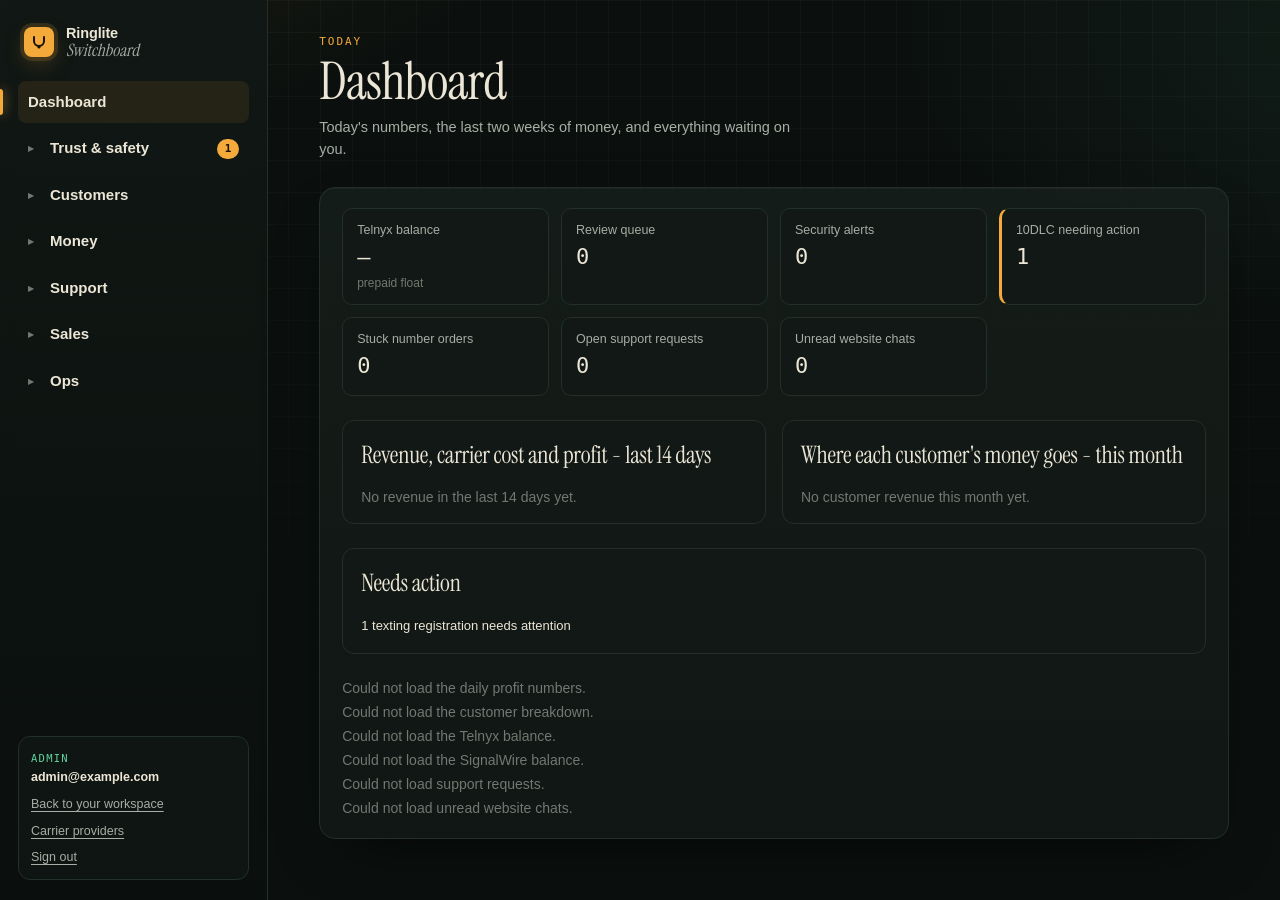
Test: OpsPage - texting registrations › lists each registration's stage, org, brand, campaign and detail
Step 1. Click the button "▸ Trust & safety 1" → (134, 149), box [18,127,249,170]
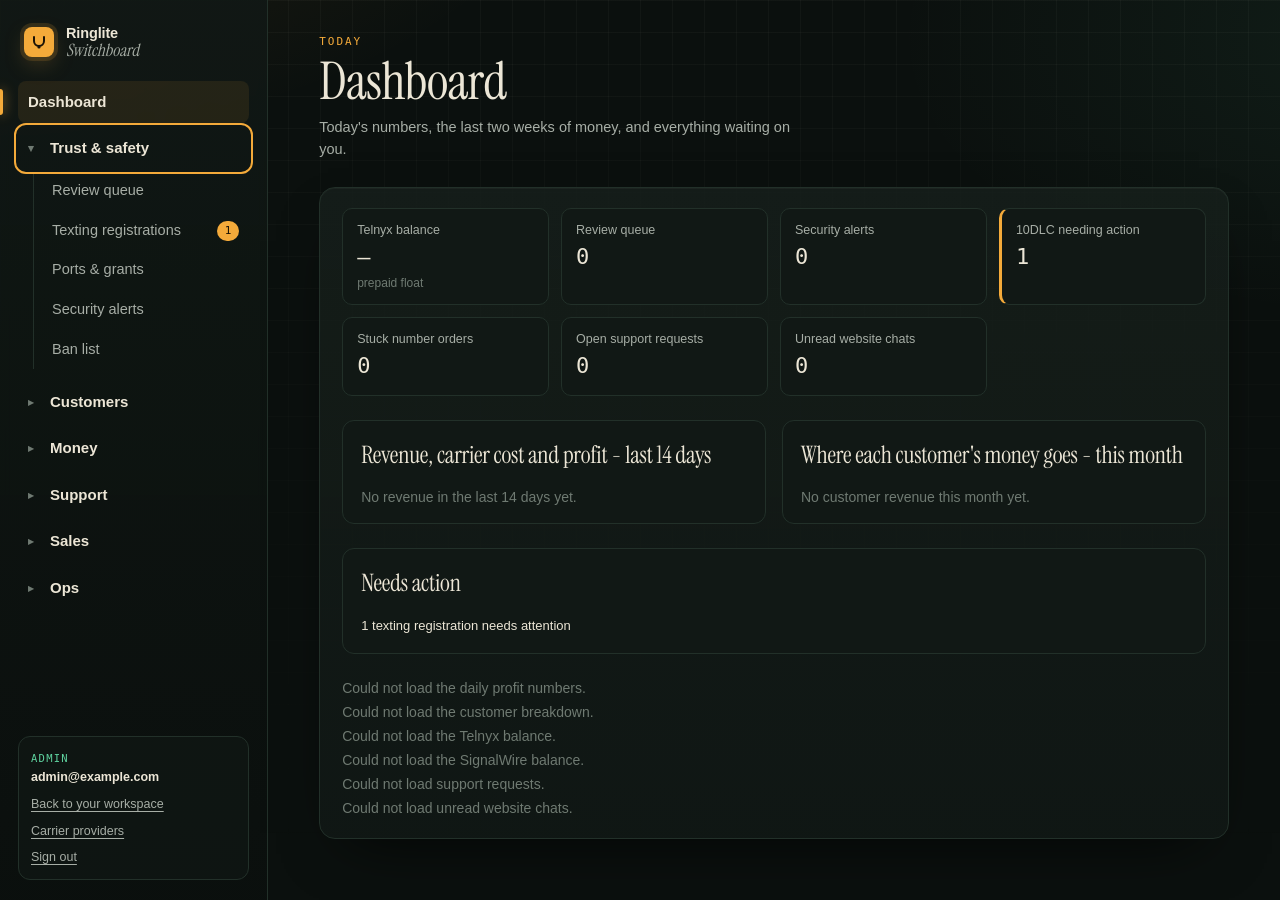
Step 2. Click the link "Texting registrations 1" → (146, 231), box [52,221,239,241]
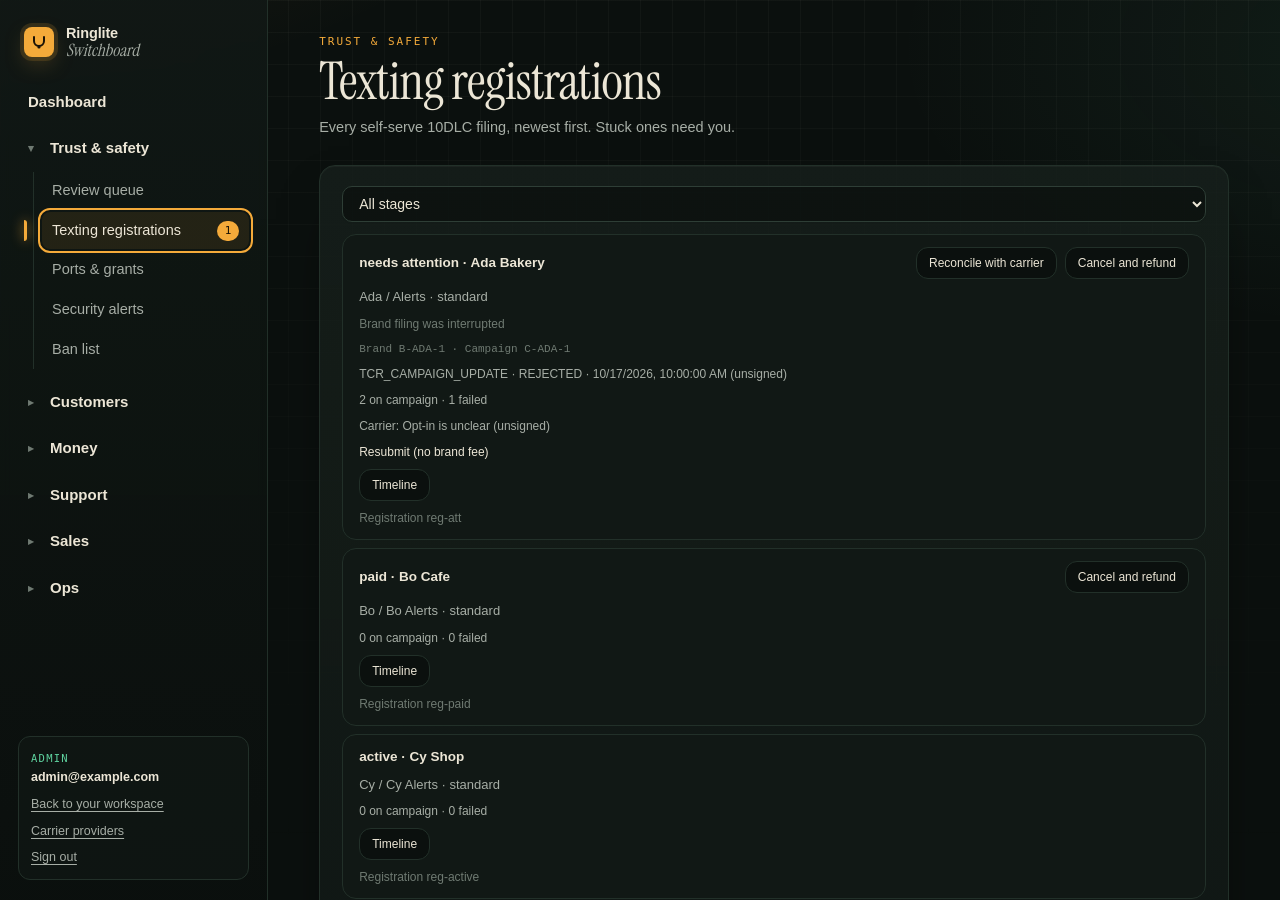
Now the list item with aria-label "Texting registration for Ada Bakery" shows "needs attention · Ada Bakery", box [342,234,1206,540]
Now the list item with aria-label "Texting registration for Ada Bakery" shows "Ada / Alerts · standard", box [342,234,1206,540]
Now the list item with aria-label "Texting registration for Ada Bakery" shows "Brand filing was interrupted", box [359,317,505,331]
